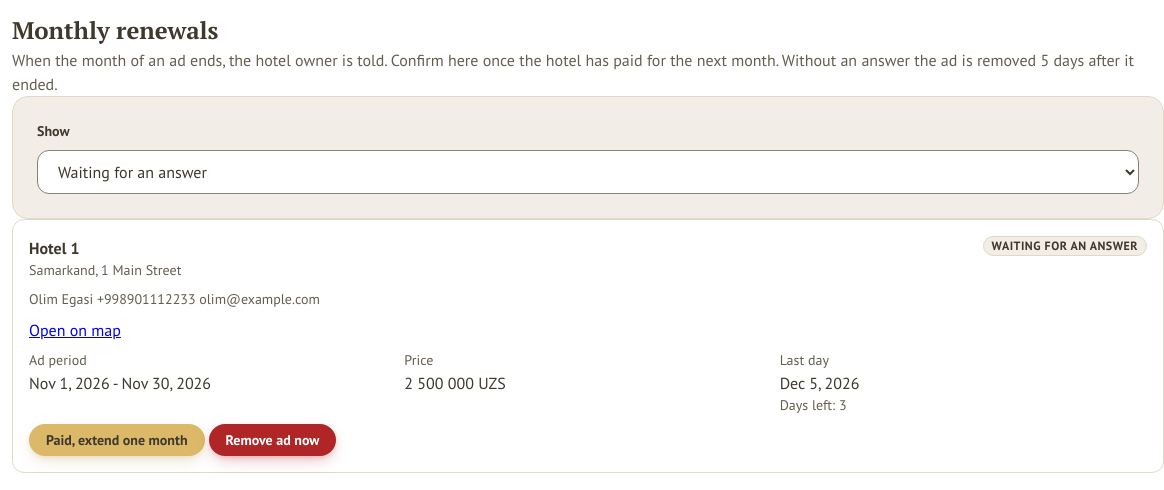
AdminPromotionRenewals › asks before removing an ad and does nothing on No
The image size is (1164, 490).
What coordinates should you click on to do the following:
click the button "Remove ad now"
I would click on:
 (272, 440)
Its box is top-left (208, 424), bottom-right (336, 456).
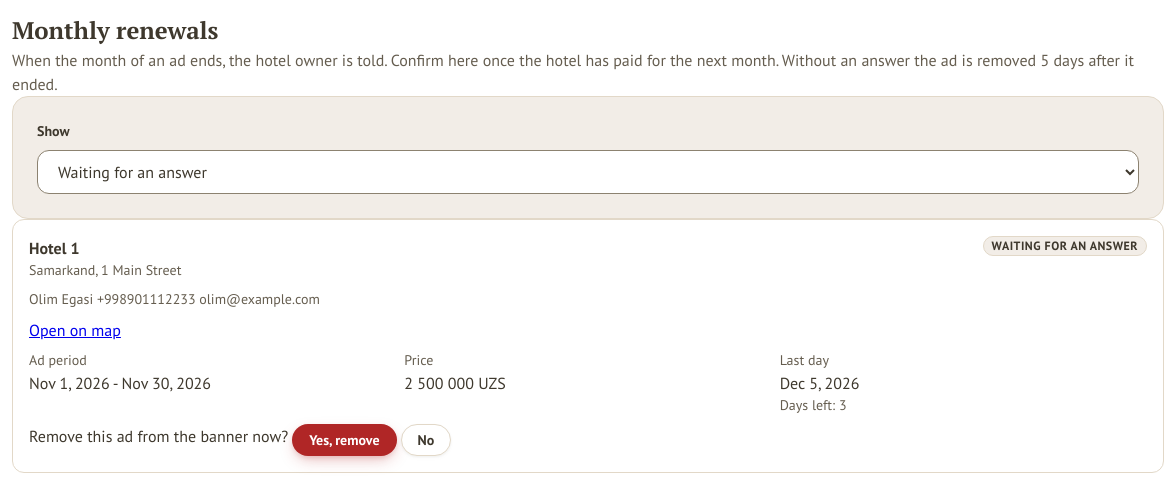
expect the text "Remove this ad from the banner now?" is shown: met, box top-left (29, 424), bottom-right (288, 456)
What coordinates should you click on to do the following:
click the button "No"
I would click on:
 (426, 440)
Its box is top-left (400, 424), bottom-right (451, 456).
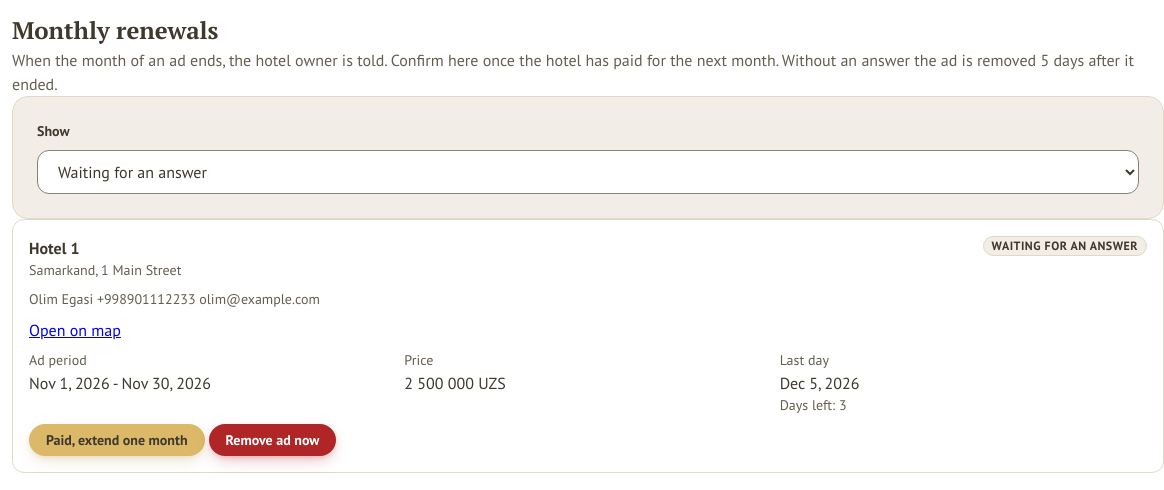
expect the text "Remove this ad from the banner now?" is gone: met
